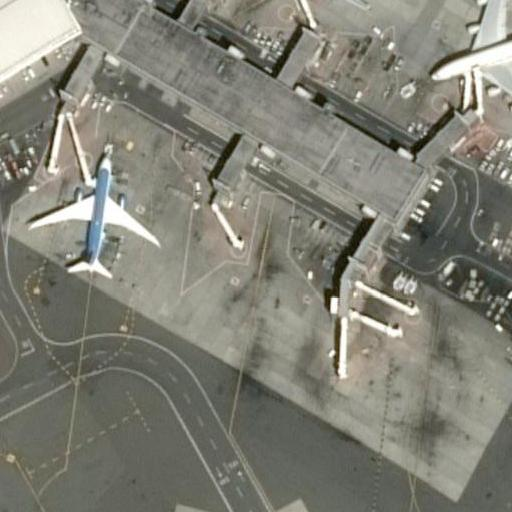Aircraft: (20, 141, 161, 282), (426, 0, 512, 129), (251, 0, 391, 16)
